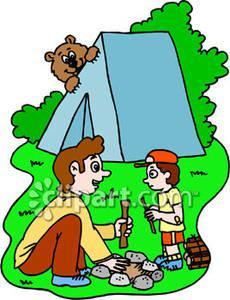person: (12, 132, 136, 287), (133, 148, 187, 270)
